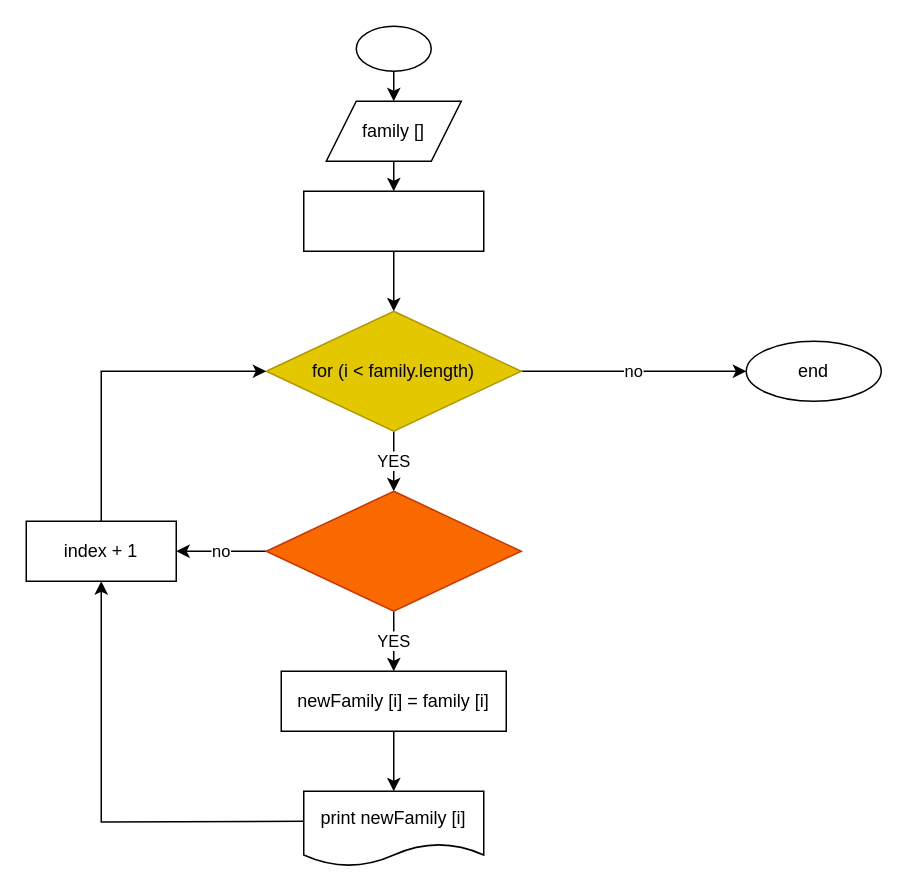
Image size: 908x893. Some labels were removed from this diagram. The centre of each missing label's shape, as x and y in pixels:
"if (family [i].length <=3" goes at [393,550].
"newFamily []" goes at [393,220].
"start" goes at [393,48].
